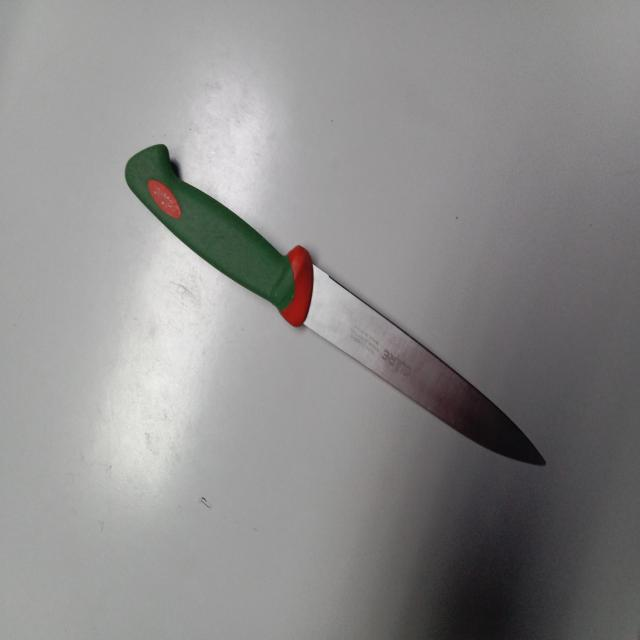Knife: (125, 144, 546, 465)
